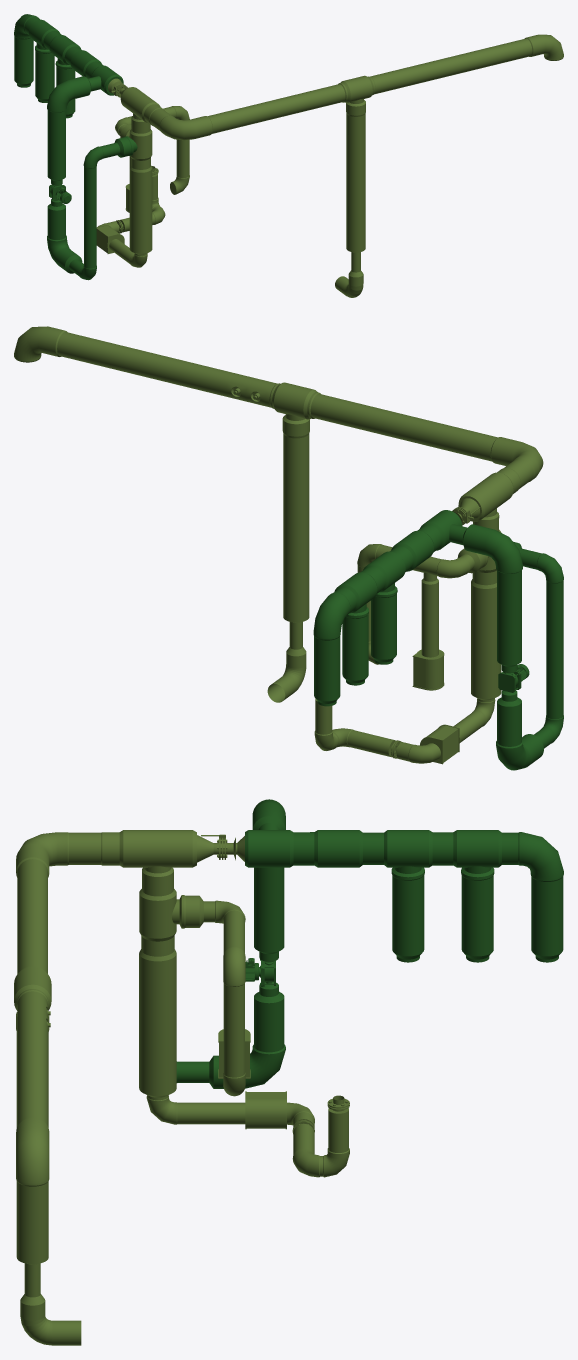
The model's file is PumpComplex-2.fbx.
3 views of the same model, one above another, from view 1: azimuth 30°, elevation 25°; view 2: azimuth 150°, elevation 25°; view 3: azimuth 270°, elevation 25° (orthographic). The views are drawn at different scales.
Parts seen in each view (by area): view 1: PumpComplex-2_Main-19, PumpComplex-2_Main-21, PumpComplex-2_Main-22, PumpComplex-2_Main-15, PumpComplex-2_Main-5, PumpComplex-2_Main-8, PumpComplex-2_Main-2, PumpComplex-2_Main-7, PumpComplex-2_Main-18, PumpComplex-2_Main-1, PumpComplex-2_Main-3, PumpComplex-2_Main-12 (+7 smaller); view 2: PumpComplex-2_Main-21, PumpComplex-2_Main-19, PumpComplex-2_Main-22, PumpComplex-2_Main-5, PumpComplex-2_Main-15, PumpComplex-2_Main-8, PumpComplex-2_Main-1, PumpComplex-2_Main-3, PumpComplex-2_Main-17, PumpComplex-2_Main-2, PumpComplex-2_Main-7, PumpComplex-2_Main-18 (+8 smaller); view 3: PumpComplex-2_Main-15, PumpComplex-2_Main-3, PumpComplex-2_Main-19, PumpComplex-2_Main-21, PumpComplex-2_Main-18, PumpComplex-2_Main-2, PumpComplex-2_Main-1, PumpComplex-2_Main-12, PumpComplex-2_Main-4, PumpComplex-2_Main-22, PumpComplex-2_Main-5, PumpComplex-2_Main-17 (+8 smaller).
Boxes of the visible parts, x1,y1,x2,y2 form: PumpComplex-2_Main-19: [150, 84, 345, 140]; PumpComplex-2_Main-21: [335, 113, 365, 297]; PumpComplex-2_Main-22: [370, 38, 532, 94]; PumpComplex-2_Main-15: [109, 157, 152, 267]; PumpComplex-2_Main-5: [47, 76, 101, 186]; PumpComplex-2_Main-8: [69, 146, 103, 280]; PumpComplex-2_Main-2: [29, 19, 59, 102]; PumpComplex-2_Main-7: [47, 198, 82, 273]; PumpComplex-2_Main-18: [108, 78, 164, 133]; PumpComplex-2_Main-1: [14, 14, 39, 87]; PumpComplex-2_Main-3: [43, 31, 81, 118]; PumpComplex-2_Main-12: [115, 106, 189, 194]; PumpComplex-2_Main-21: [267, 434, 309, 702]; PumpComplex-2_Main-19: [310, 394, 543, 488]; PumpComplex-2_Main-22: [57, 332, 277, 407]; PumpComplex-2_Main-5: [449, 524, 522, 675]; PumpComplex-2_Main-15: [453, 570, 501, 742]; PumpComplex-2_Main-8: [534, 553, 563, 748]; PumpComplex-2_Main-1: [313, 588, 356, 706]; PumpComplex-2_Main-3: [361, 546, 413, 664]; PumpComplex-2_Main-17: [314, 698, 440, 763]; PumpComplex-2_Main-2: [334, 572, 377, 685]; PumpComplex-2_Main-7: [496, 690, 543, 770]; PumpComplex-2_Main-18: [452, 468, 520, 531]; PumpComplex-2_Main-15: [139, 936, 245, 1124]; PumpComplex-2_Main-3: [363, 830, 453, 962]; PumpComplex-2_Main-19: [16, 832, 100, 973]; PumpComplex-2_Main-21: [16, 1032, 81, 1345]; PumpComplex-2_Main-18: [101, 830, 244, 896]; PumpComplex-2_Main-2: [453, 830, 501, 962]; PumpComplex-2_Main-1: [502, 832, 563, 962]; PumpComplex-2_Main-12: [215, 900, 245, 1096]; PumpComplex-2_Main-4: [245, 830, 362, 867]; PumpComplex-2_Main-22: [17, 991, 50, 1126]; PumpComplex-2_Main-5: [252, 799, 285, 965]; PumpComplex-2_Main-17: [287, 1095, 349, 1177].
Bounding box in the file's own units: 612 × 292 × 396.
